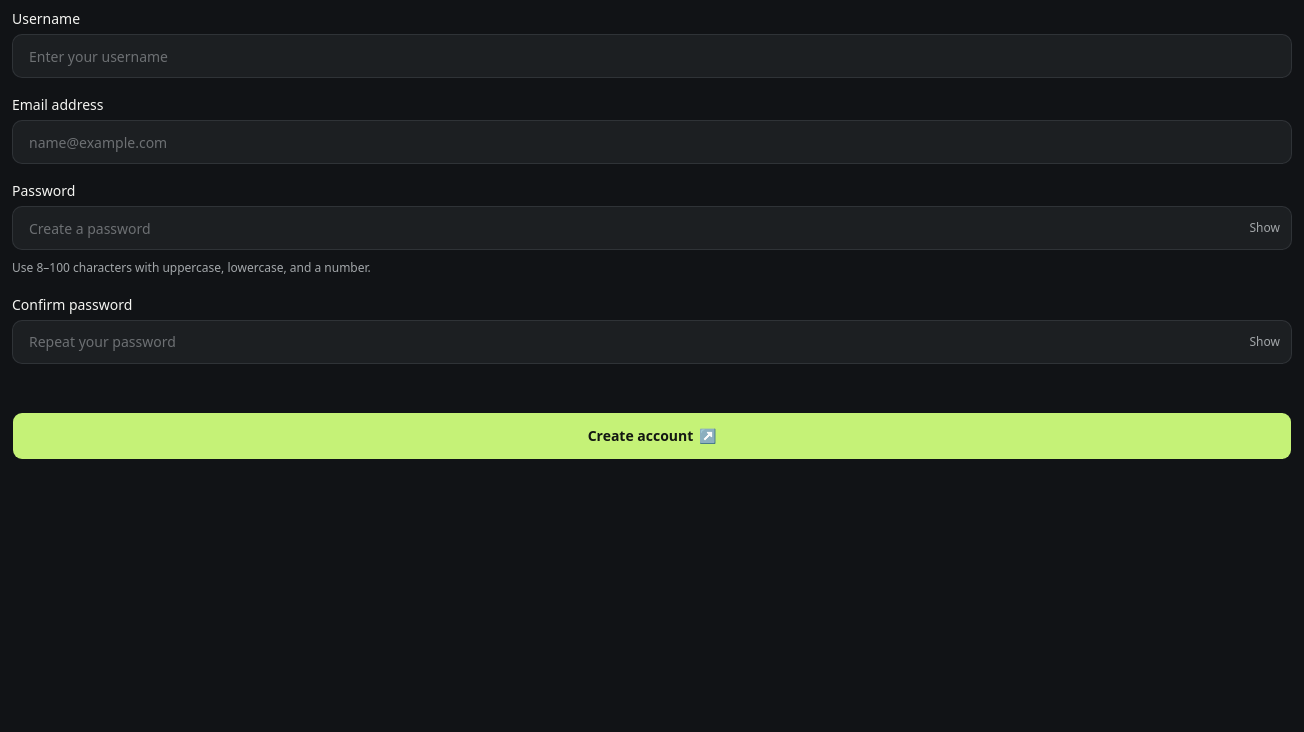
Scenario: RegisterForm › does not redirect for unexpected HTTP 200
In the field labelled "Username": (652, 56) [12, 34, 1292, 78], type "careertrackuser"
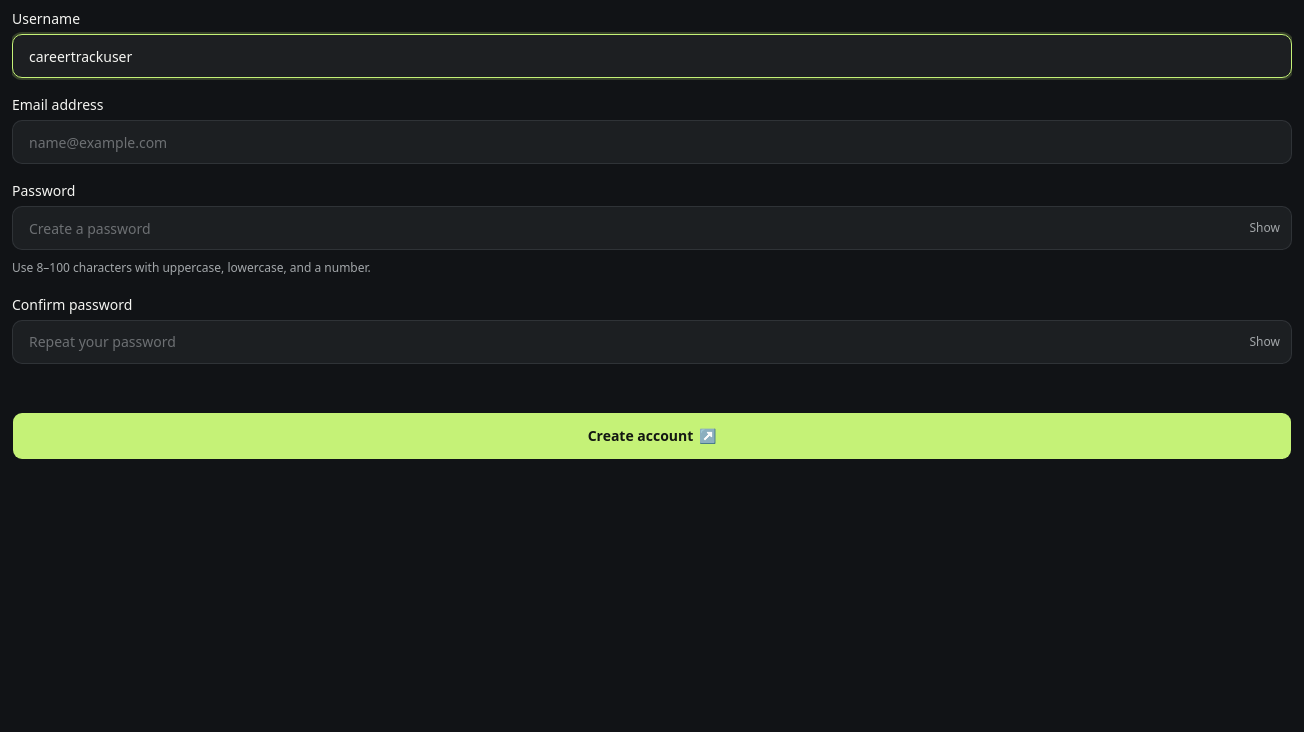
In the field labelled "Email address": (652, 142) [12, 120, 1292, 164], type "careertrack@example.com"
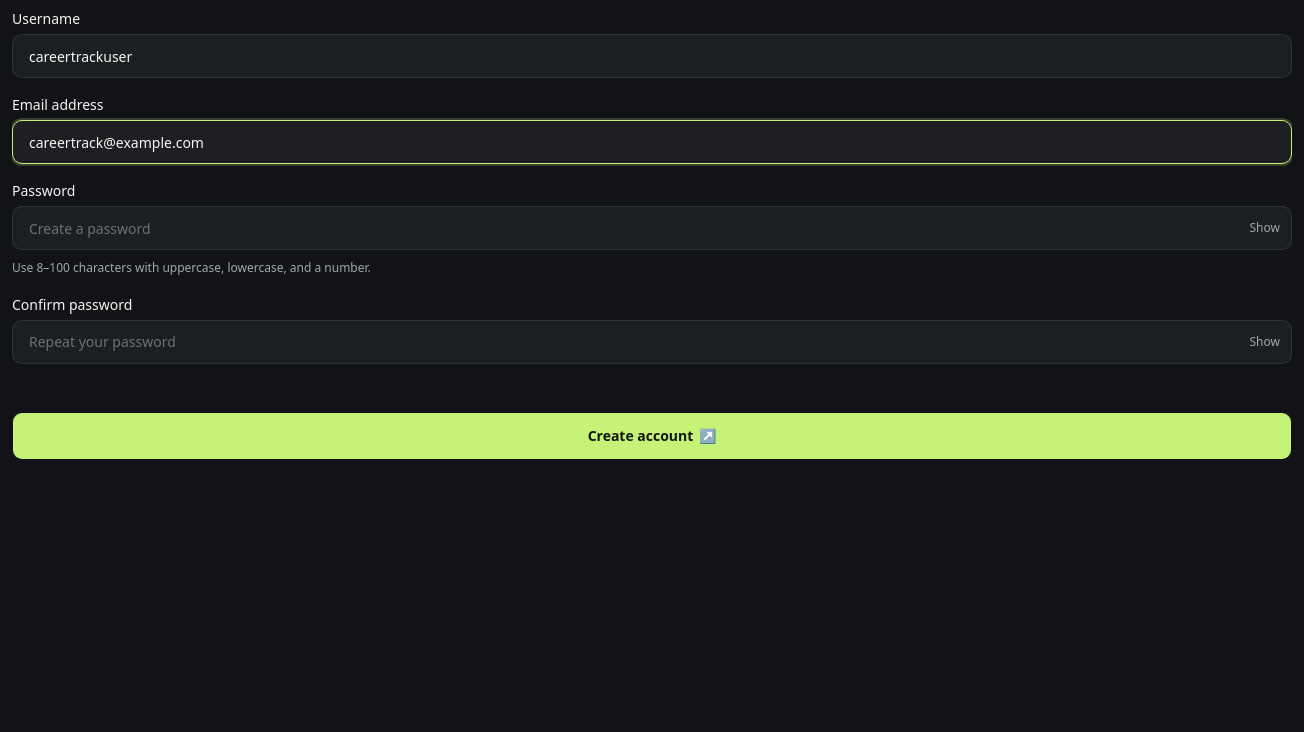
In the password field labelled "Password": (652, 228) [12, 206, 1292, 250], type "Password123"
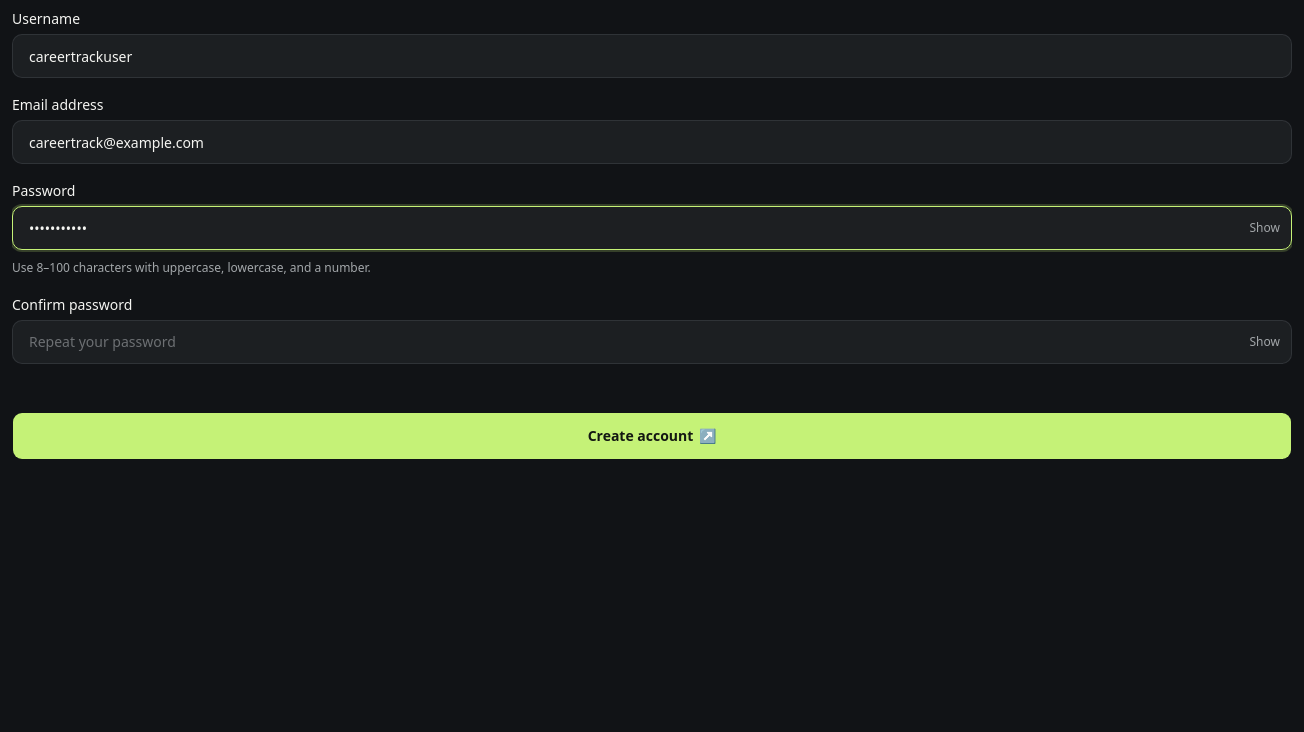
In the password field labelled "Confirm password": (652, 342) [12, 320, 1292, 364], type "Password123"
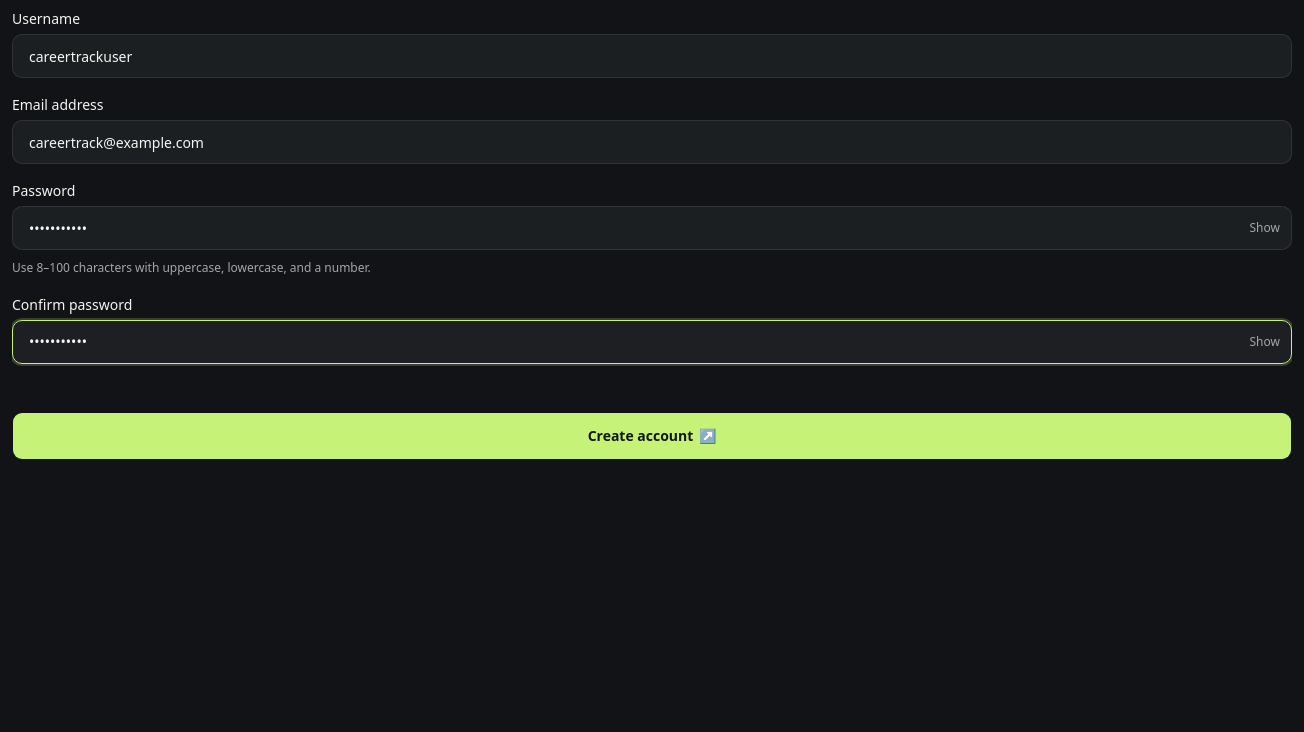
Click the button "Create account ↗": (652, 436) [12, 412, 1292, 460]
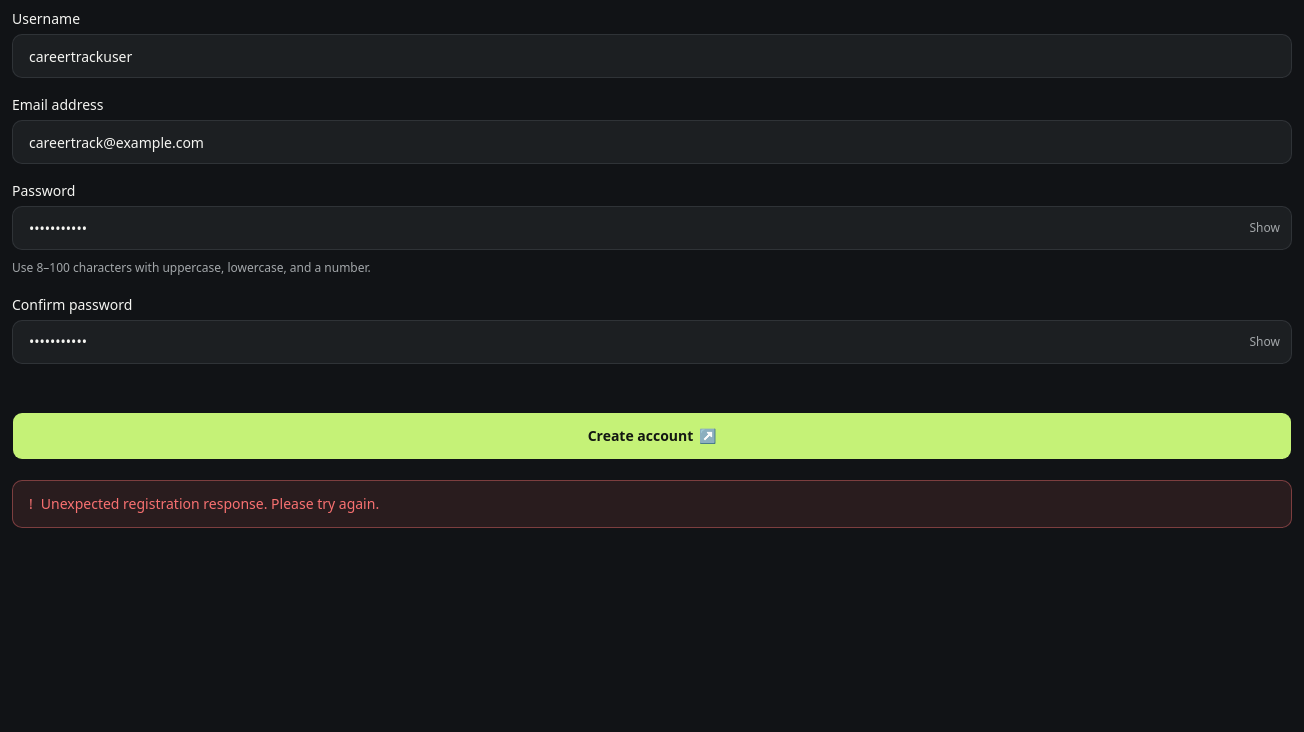
Now the text "Unexpected registration response. Please try again." is shown, box [41, 492, 379, 515]
